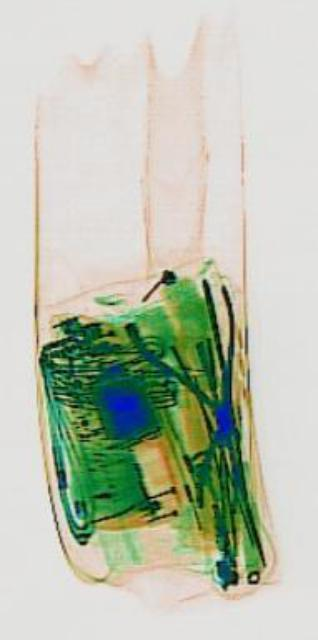Pliers: (120, 250, 257, 502)
